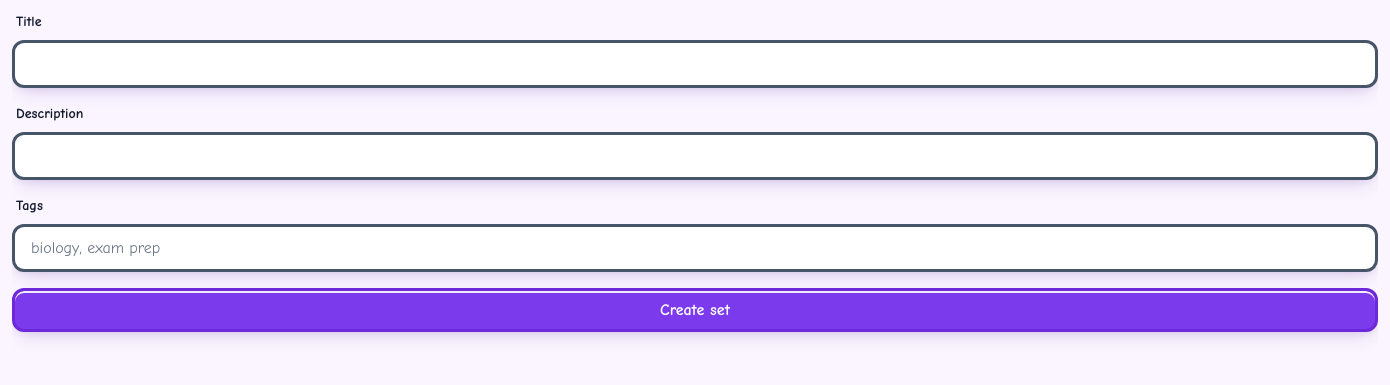
CreateSetForm › shows an error and does not submit an empty title
Click the button "Create set" at (695, 310), box [12,288,1378,332]
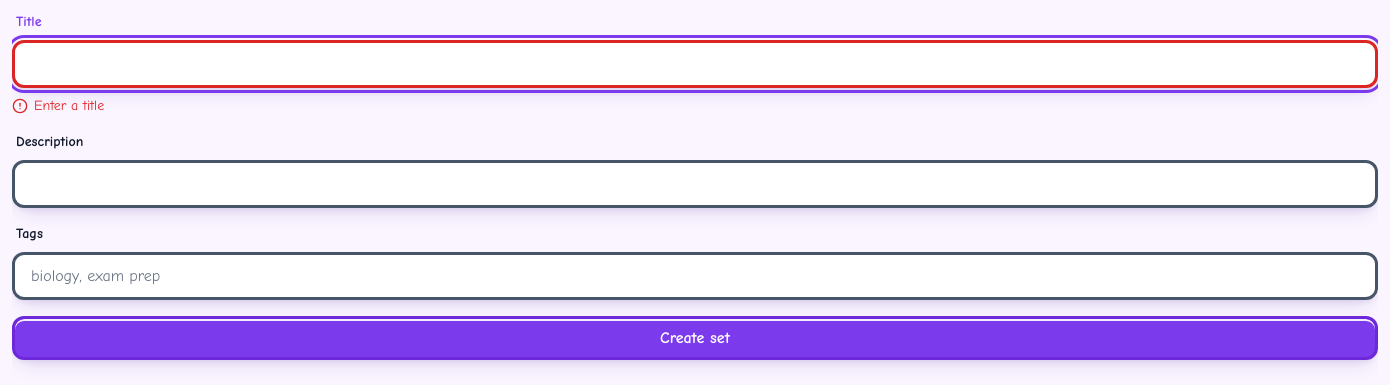
Now the message reads "Enter a title", box [34,97,104,114]
